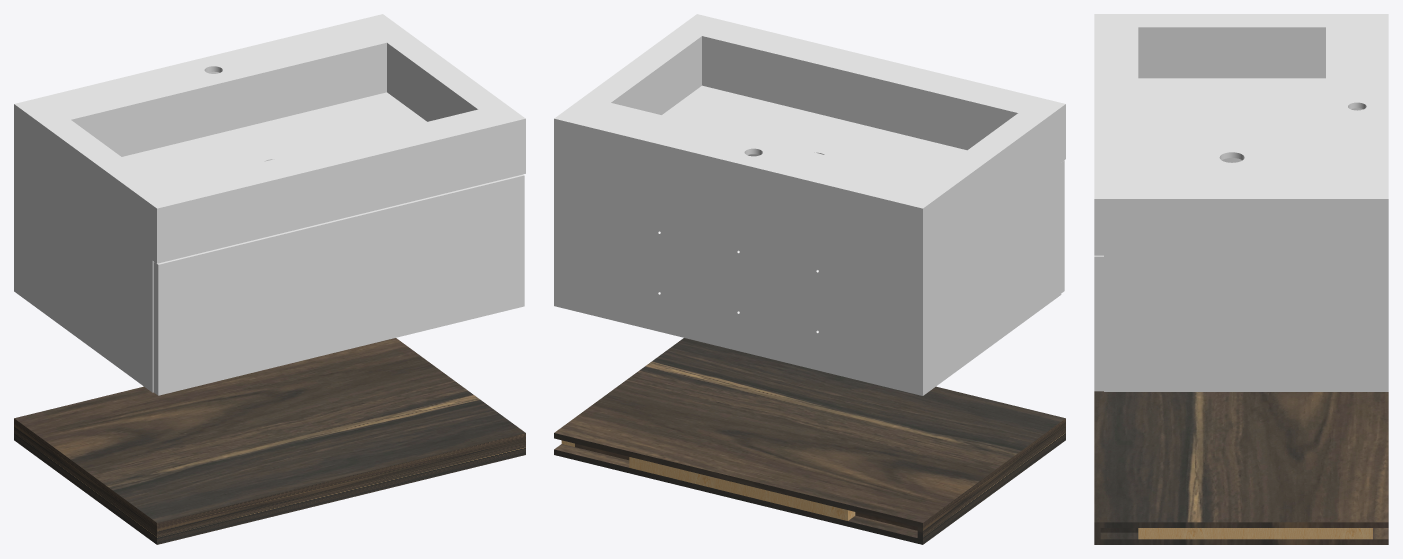
The model's file is 032_Mueble-de-baño.glb.
The picture shows the model from 3 angles, left to right: view 1: azimuth 30°, elevation 25°; view 2: azimuth 150°, elevation 25°; view 3: azimuth 270°, elevation 25°; orthographic projection. The views are drawn at different scales.
Parts seen in each view (by area): view 1: root; view 2: root; view 3: root.
Part boxes in pixels (bbox=[...]): root: bbox=[14, 14, 525, 544]; root: bbox=[554, 14, 1065, 544]; root: bbox=[1094, 14, 1388, 544].
Bounding box in the file's own units: 0.7 × 0.61 × 0.47.
7 materials, 7 textured.
